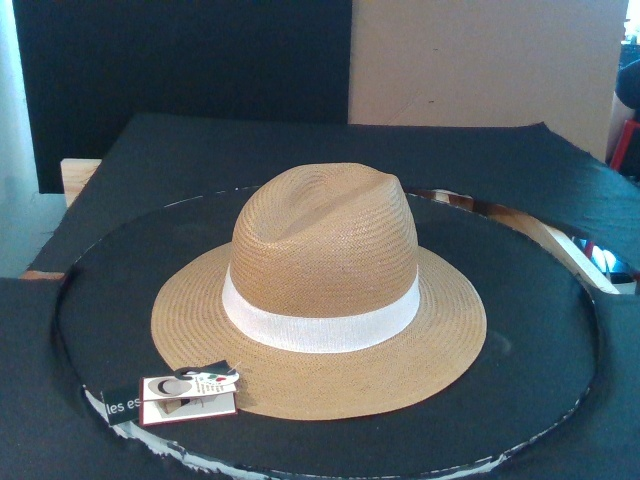hat: (149, 163, 487, 422)
